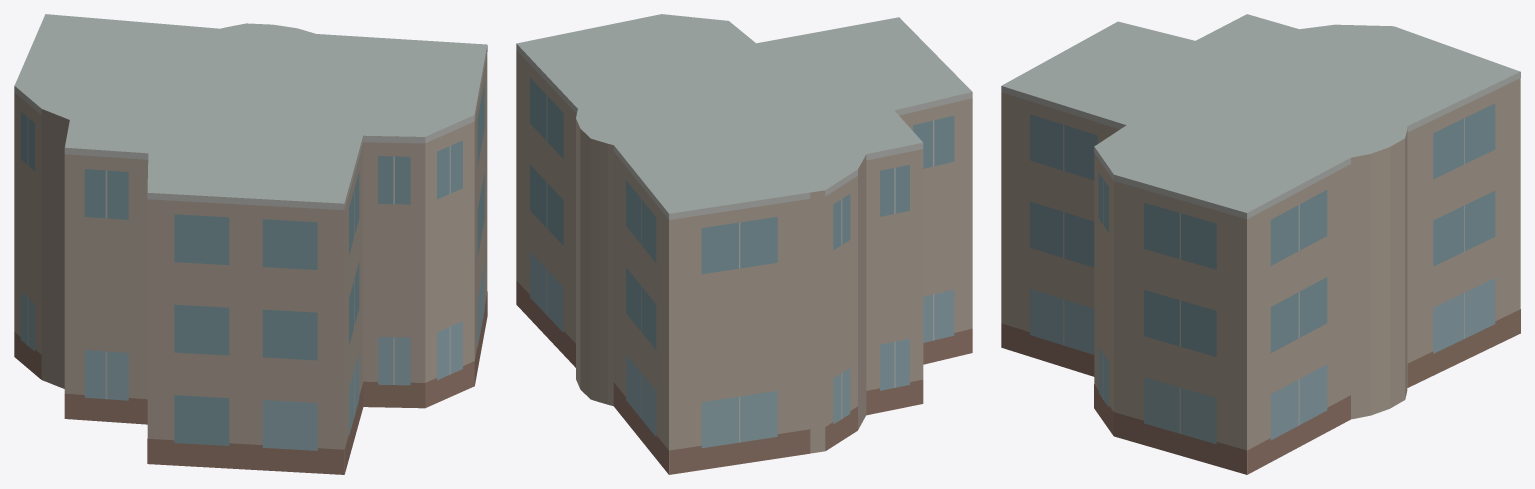
Rendered from survey-upis-32826935.glb.
3 renders of one model, left to right at view 1: azimuth 30°, elevation 25°; view 2: azimuth 150°, elevation 25°; view 3: azimuth 270°, elevation 25°, orthographic. The views are drawn at different scales.
Visible parts, largest first — view 1: survey-upis-32826935.tmp; view 2: survey-upis-32826935.tmp; view 3: survey-upis-32826935.tmp.
Boxes of the visible parts, x1,y1,x2,y2 form: survey-upis-32826935.tmp: [14, 14, 487, 474]; survey-upis-32826935.tmp: [516, 14, 972, 474]; survey-upis-32826935.tmp: [1001, 14, 1520, 474].
Bounding box in the file's own units: 16.65 × 10.2 × 18.35.
